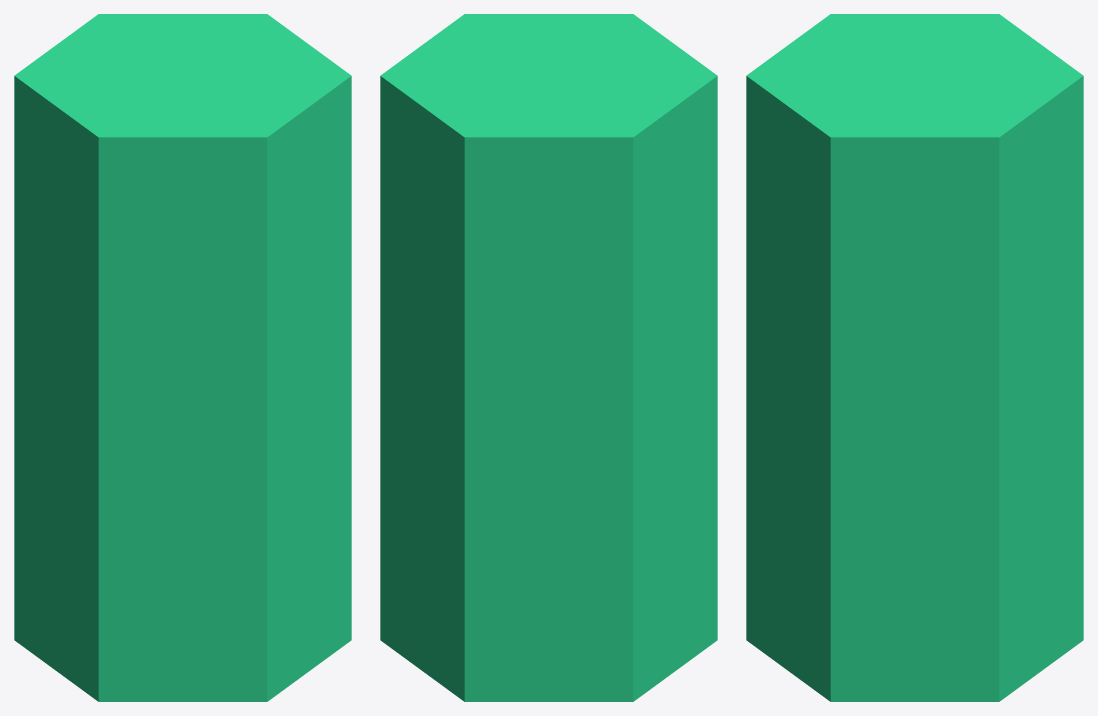
Rendered from ColCan.fbx.
3 views of the same model, side by side, from view 1: azimuth 30°, elevation 25°; view 2: azimuth 150°, elevation 25°; view 3: azimuth 270°, elevation 25° (orthographic).
Parts seen in each view (by area): view 1: ColCan; view 2: ColCan; view 3: ColCan.
Boxes of the visible parts, x1,y1,x2,y2 form: ColCan: (14, 14, 351, 701); ColCan: (380, 14, 717, 701); ColCan: (746, 14, 1083, 701).
Bounding box in the file's own units: 11.14 × 23.75 × 12.86.
